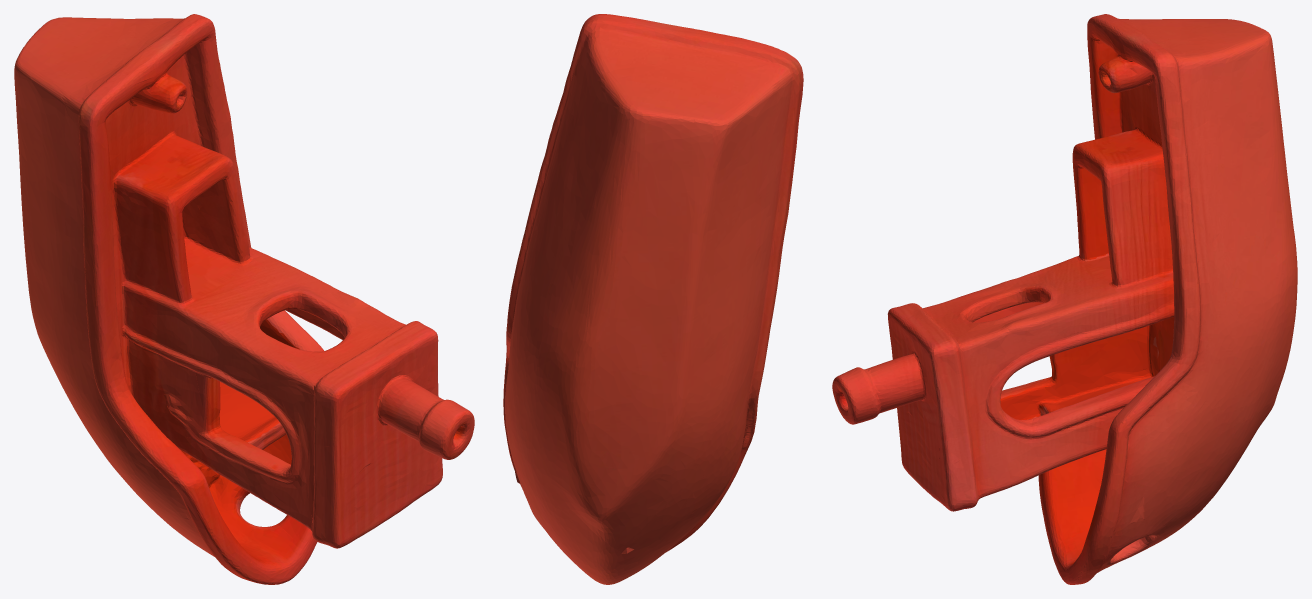
File: asset_0001.glb
3 views of the same model, side by side, from view 1: azimuth 30°, elevation 25°; view 2: azimuth 150°, elevation 25°; view 3: azimuth 270°, elevation 25° (orthographic). The views are drawn at different scales.
Parts seen in each view (by area): view 1: xlpapf__link_textured_mesh__visuals__red_boat_toy_xlpapf_lin; view 2: xlpapf__link_textured_mesh__visuals__red_boat_toy_xlpapf_lin; view 3: xlpapf__link_textured_mesh__visuals__red_boat_toy_xlpapf_lin.
Part boxes in pixels (<box>): xlpapf__link_textured_mesh__visuals__red_boat_toy_xlpapf_lin: <box>14,14,474,584</box>; xlpapf__link_textured_mesh__visuals__red_boat_toy_xlpapf_lin: <box>503,14,803,584</box>; xlpapf__link_textured_mesh__visuals__red_boat_toy_xlpapf_lin: <box>832,14,1297,584</box>.
Size of the model in its own units: 0.0277 by 0.0501 by 0.0413.
Materials: 1 (1 with a texture image).
